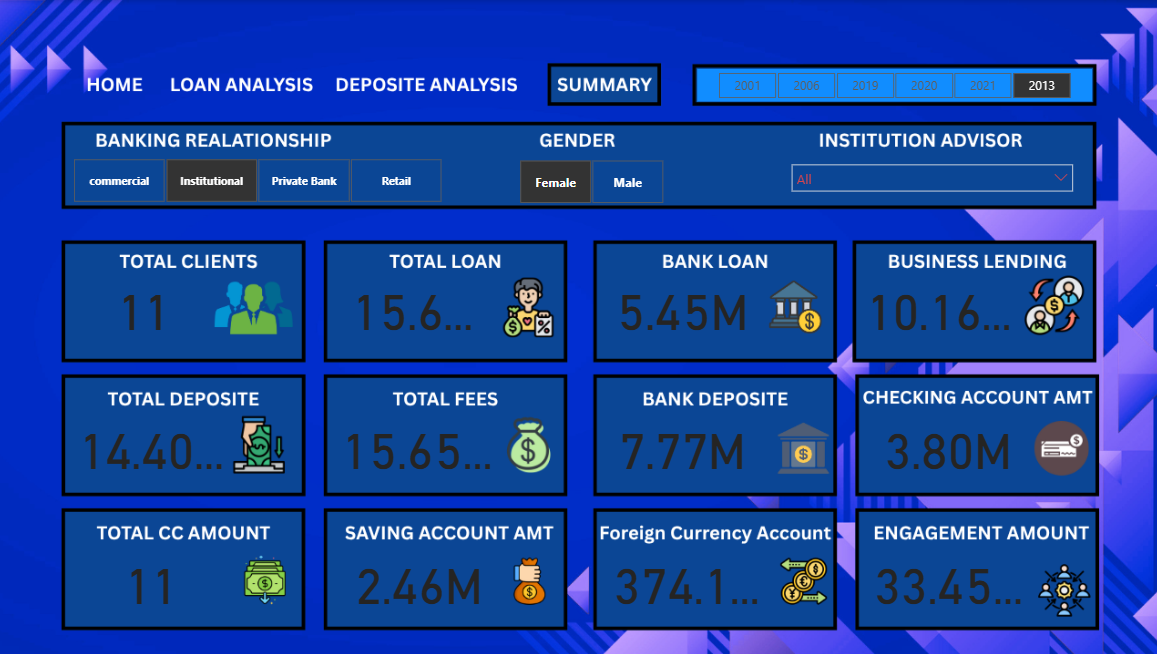

Layout of this report page (visuals, bound fields, positions):
{"tool":"powerbi","page":{"name":"SUMMARY","canvas":[1280,720],"ordinal":3},"visuals":[{"type":"card","fields":{"Values":["CountNonNull(Query1.Name)"]},"box":[83.7,605.1,172.9,64.5],"z":0},{"type":"card","fields":{"Values":["Query1.Total Loan"]},"box":[373.2,456.9,177,64.5],"z":1000},{"type":"card","fields":{"Values":["Query1.Total Deposite"]},"box":[83.7,456.9,172.9,64.5],"z":2000},{"type":"card","fields":{"Values":["Query1.Total Loan"]},"box":[373.2,304.6,167.4,64.5],"z":3000},{"type":"card","fields":{"Values":["CountNonNull(Query1.Name)"]},"box":[83.7,304.6,156.4,64.5],"z":4000},{"type":"card","fields":{"Values":["Sum(Query1.Bank Loans)"]},"box":[665.5,304.6,175.6,64.5],"z":5000},{"type":"card","fields":{"Values":["Sum(Query1.Checking Accounts)"]},"box":[946.8,456.9,197.6,64.5],"z":6000},{"type":"card","fields":{"Values":["Query1.Engagement Amount"]},"box":[956.4,605.1,178.4,64.5],"z":7000},{"type":"card","fields":{"Values":["Sum(Query1.Foreign Currency Account)"]},"box":[665.5,605.1,185.2,64.5],"z":8000},{"type":"card","fields":{"Values":["Sum(Query1.Bank Deposits)"]},"box":[665.5,456.9,175.6,64.5],"z":9000},{"type":"card","fields":{"Values":["Sum(Query1.Saving Accounts)"]},"box":[363.6,605.1,201.7,64.5],"z":10000},{"type":"card","fields":{"Values":["Sum(Query1.Business Lending)"]},"box":[946.8,304.6,175.6,64.5],"z":11000},{"type":"slicer","fields":{"Values":["Query1.BRId"]},"box":[61.7,170.2,451.5,56.3],"z":12000},{"type":"slicer","fields":{"Values":["Query1.GenderId"]},"box":[551.6,171.5,204.5,56.3],"z":13000},{"type":"slicer","fields":{"Values":["Query1.IAId"]},"box":[863.1,170.2,329.3,45.3],"z":14000},{"type":"slicer","fields":{"Values":["Query1.Year of Joining"]},"box":[769.8,75.5,433.6,35.7],"z":15000},{"type":"actionButton","box":[70,71.4,100.2,39.8],"z":16000},{"type":"actionButton","box":[189.4,71.4,160.5,39.8],"z":17000},{"type":"actionButton","box":[373.2,71.4,201.7,39.8],"z":18000}]}

Visuals, with their boxes in screenshot pixels (x1, y1, x2, y2), scaled from the page's 1280x720 canvas onto the 1157x654 screenshot:
card - CountNonNull(Query1.Name): {"x1": 76, "y1": 550, "x2": 232, "y2": 608}
card - Query1.Total Loan: {"x1": 337, "y1": 415, "x2": 497, "y2": 474}
card - Query1.Total Deposite: {"x1": 76, "y1": 415, "x2": 232, "y2": 474}
card - Query1.Total Loan: {"x1": 337, "y1": 277, "x2": 489, "y2": 335}
card - CountNonNull(Query1.Name): {"x1": 76, "y1": 277, "x2": 217, "y2": 335}
card - Sum(Query1.Bank Loans): {"x1": 602, "y1": 277, "x2": 760, "y2": 335}
card - Sum(Query1.Checking Accounts): {"x1": 856, "y1": 415, "x2": 1034, "y2": 474}
card - Query1.Engagement Amount: {"x1": 864, "y1": 550, "x2": 1026, "y2": 608}
card - Sum(Query1.Foreign Currency Account): {"x1": 602, "y1": 550, "x2": 769, "y2": 608}
card - Sum(Query1.Bank Deposits): {"x1": 602, "y1": 415, "x2": 760, "y2": 474}
card - Sum(Query1.Saving Accounts): {"x1": 329, "y1": 550, "x2": 511, "y2": 608}
card - Sum(Query1.Business Lending): {"x1": 856, "y1": 277, "x2": 1015, "y2": 335}
slicer - Query1.BRId: {"x1": 56, "y1": 155, "x2": 464, "y2": 206}
slicer - Query1.GenderId: {"x1": 499, "y1": 156, "x2": 683, "y2": 207}
slicer - Query1.IAId: {"x1": 780, "y1": 155, "x2": 1078, "y2": 196}
slicer - Query1.Year of Joining: {"x1": 696, "y1": 69, "x2": 1088, "y2": 101}
actionButton: {"x1": 63, "y1": 65, "x2": 154, "y2": 101}
actionButton: {"x1": 171, "y1": 65, "x2": 316, "y2": 101}
actionButton: {"x1": 337, "y1": 65, "x2": 520, "y2": 101}
